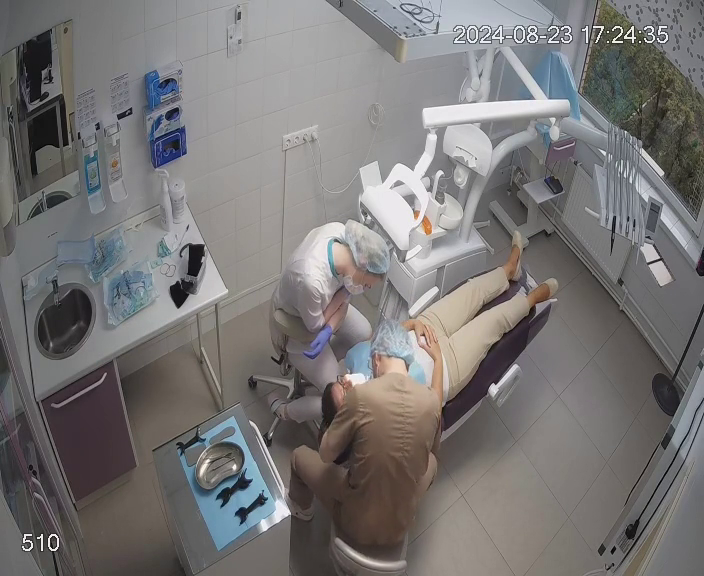Patient: (320, 230, 559, 459)
